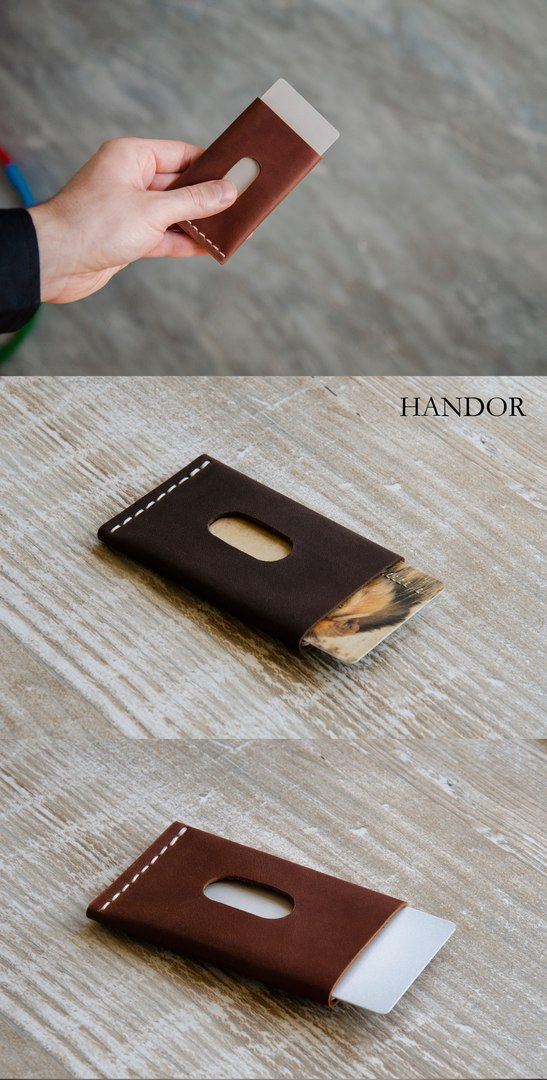monedero: (81, 818, 415, 1016), (94, 451, 409, 658), (162, 99, 325, 269)
